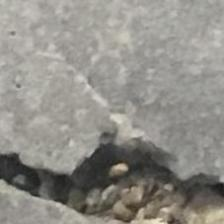Crack: (0, 123, 224, 224)
